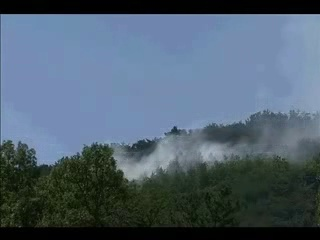smoke: (115, 126, 263, 181), (264, 16, 317, 164)
